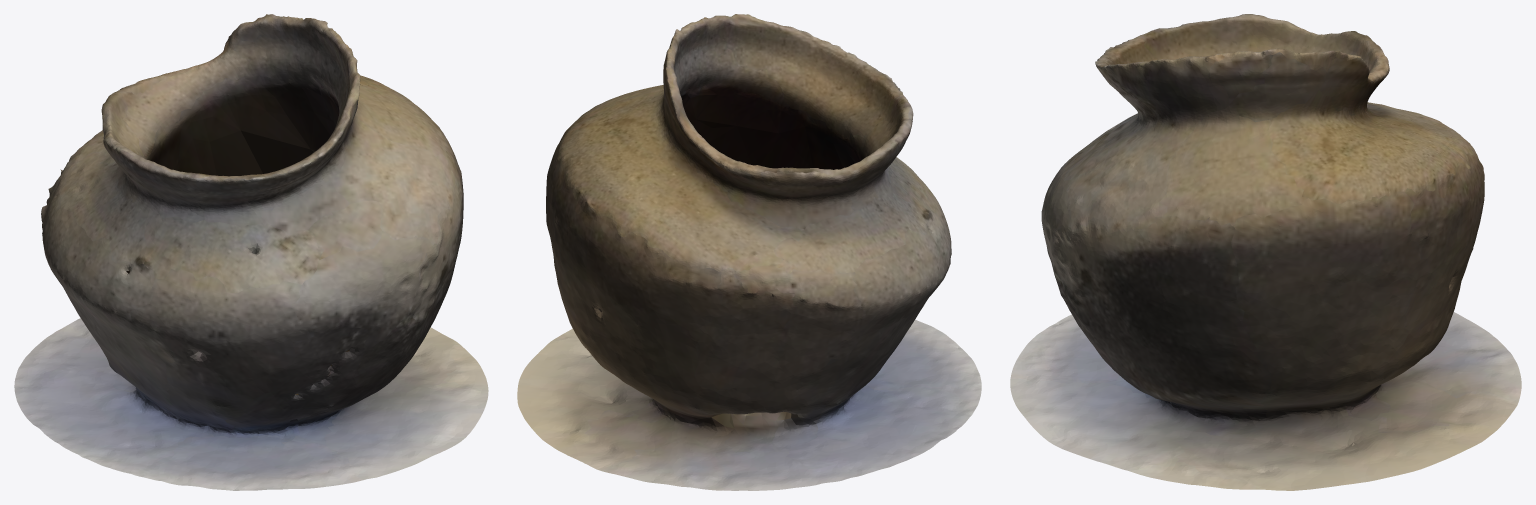
File: Tyausuyama.glb
3 views of the same model, side by side, from view 1: azimuth 30°, elevation 25°; view 2: azimuth 150°, elevation 25°; view 3: azimuth 270°, elevation 25° (orthographic). The views are drawn at different scales.
Visible parts, largest first — view 1: mesh; view 2: mesh; view 3: mesh.
Boxes of the visible parts, bbox=[...] form: mesh: bbox=[14, 14, 488, 490]; mesh: bbox=[517, 14, 981, 490]; mesh: bbox=[1010, 14, 1521, 490].
Bounding box in the file's own units: 0.216 × 0.1823 × 0.2213.
Materials: 1 (1 with a texture image).
